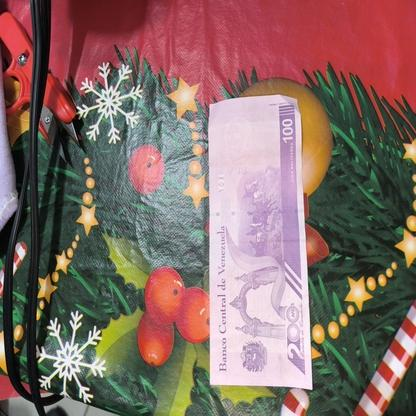one_hundred-back-vef: (208, 94, 314, 390)
